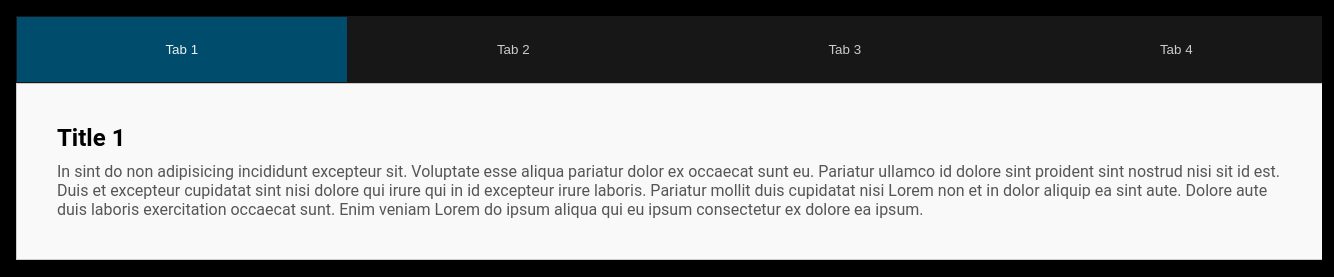
Test: renders tab titles and content
Check: the button "Tab 1" is shown, box [16, 16, 348, 83]
Check: the button "Tab 3" is shown, box [679, 16, 1010, 83]
# Simulate click on Tab 2
Click the button "Tab 2" at [513, 50], box [348, 16, 679, 83]
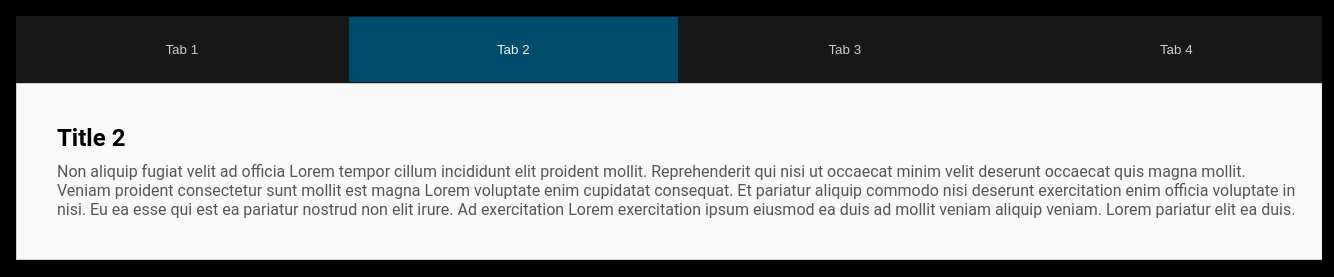
Check: the text "Non aliquip fugiat velit ad officia Lorem tempor cillum" is shown, box [57, 162, 1295, 219]
